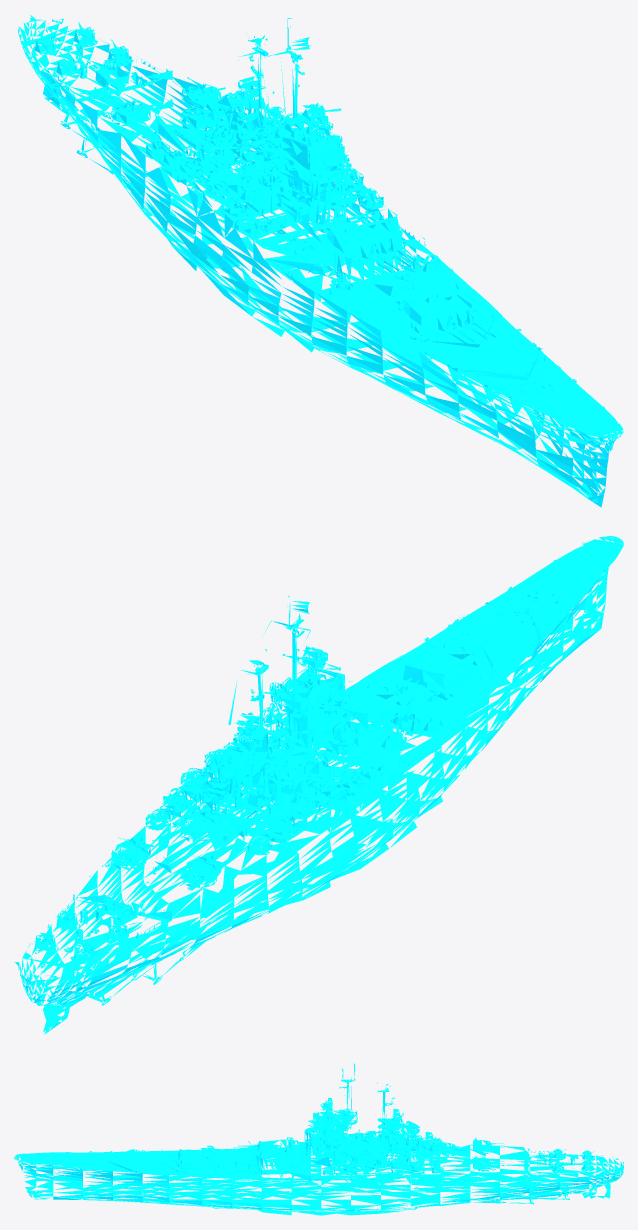
Rendered from PFSB599.glb.
The picture shows the model from 3 angles, top to bottom: view 1: azimuth 30°, elevation 25°; view 2: azimuth 150°, elevation 25°; view 3: azimuth 270°, elevation 25°; orthographic projection. The views are drawn at different scales.
Parts seen in each view (by area): view 1: hull, turret; view 2: hull, turret; view 3: hull, turret.
Boxes of the visible parts, bbox=[...] form: hull: bbox=[17, 15, 623, 507]; turret: bbox=[34, 21, 495, 344]; hull: bbox=[14, 536, 623, 1034]; turret: bbox=[34, 633, 495, 961]; hull: bbox=[14, 1063, 623, 1215]; turret: bbox=[154, 1084, 594, 1177].
Size of the model in its own units: 2.36 by 4.07 by 16.52.
